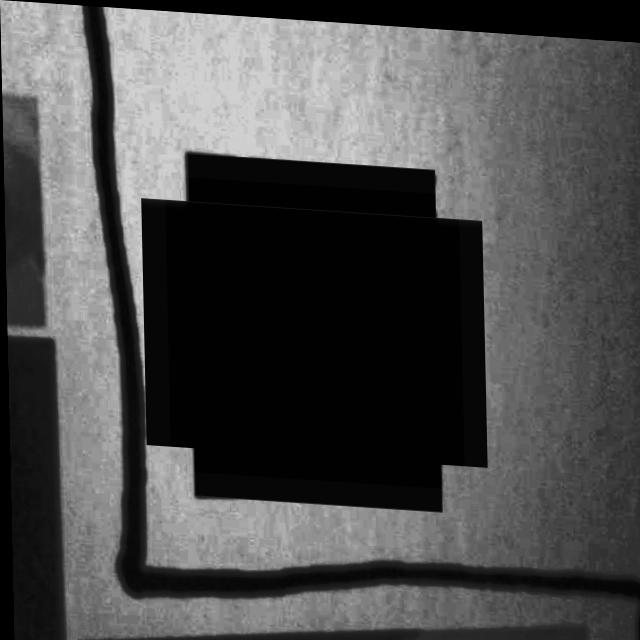qr_code: (164, 173, 463, 484)
